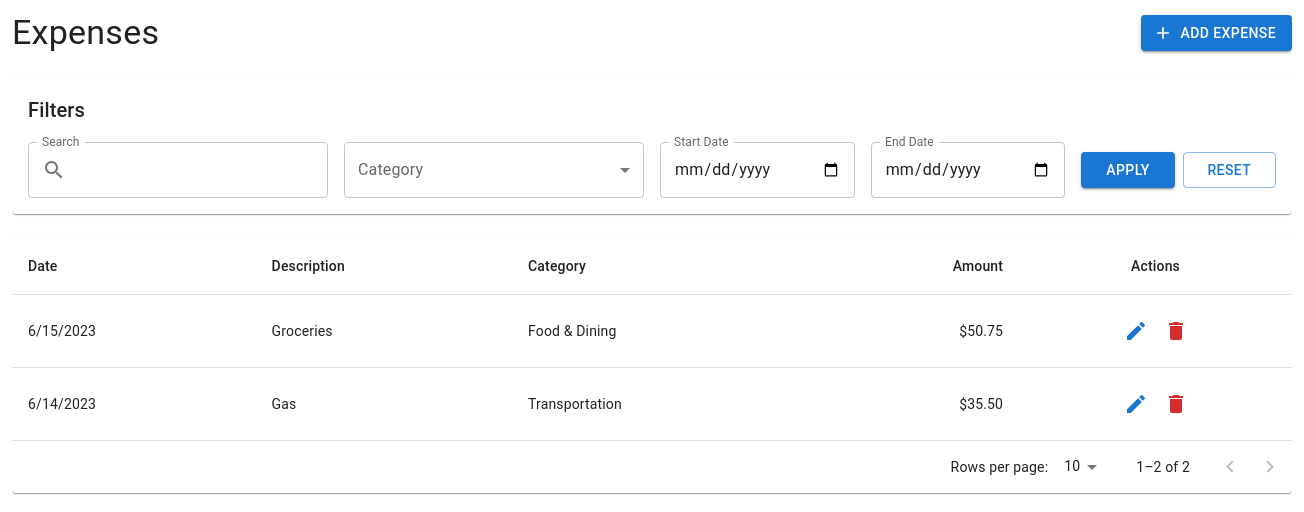
ExpenseList Component › resets filters when reset button is clicked
First set a filter
Type "Groceries" into the field labelled "Search".
click(201, 170); type("Groceries")  # box [74,142,328,198]
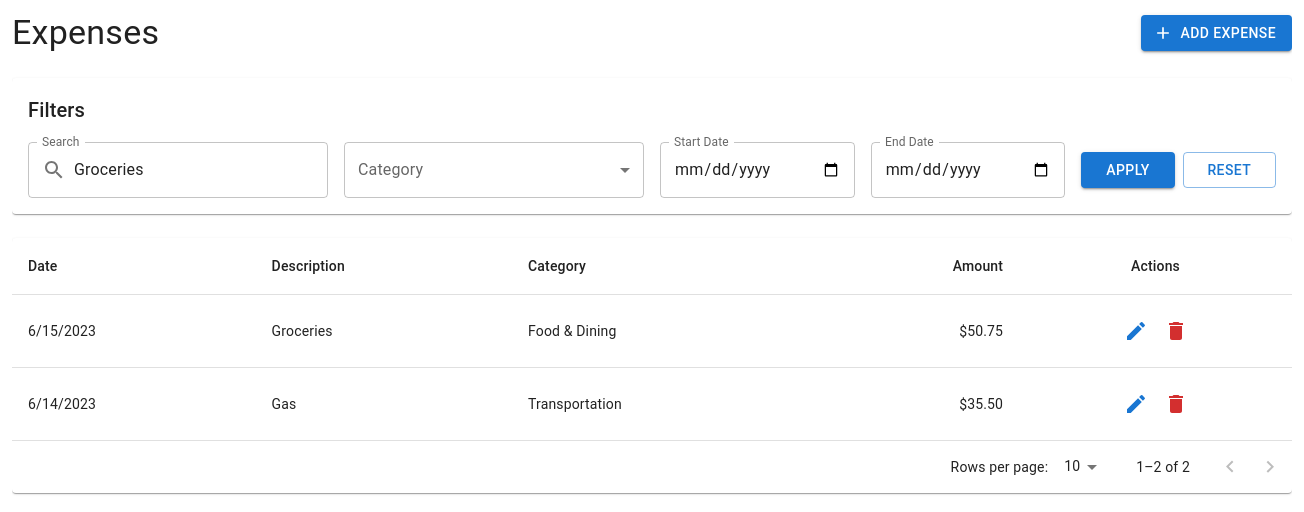
Then reset the filter
Click the button "Reset".
click(1229, 170)  # box [1183,152,1276,188]
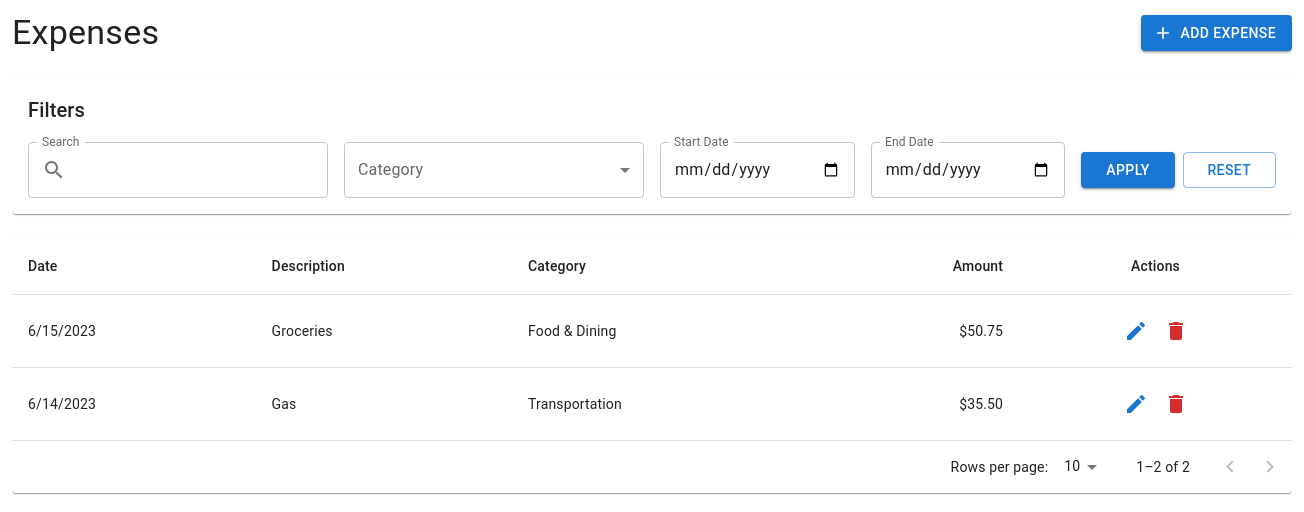
Result: the field labelled "Search" is empty at [74,142,328,198]
